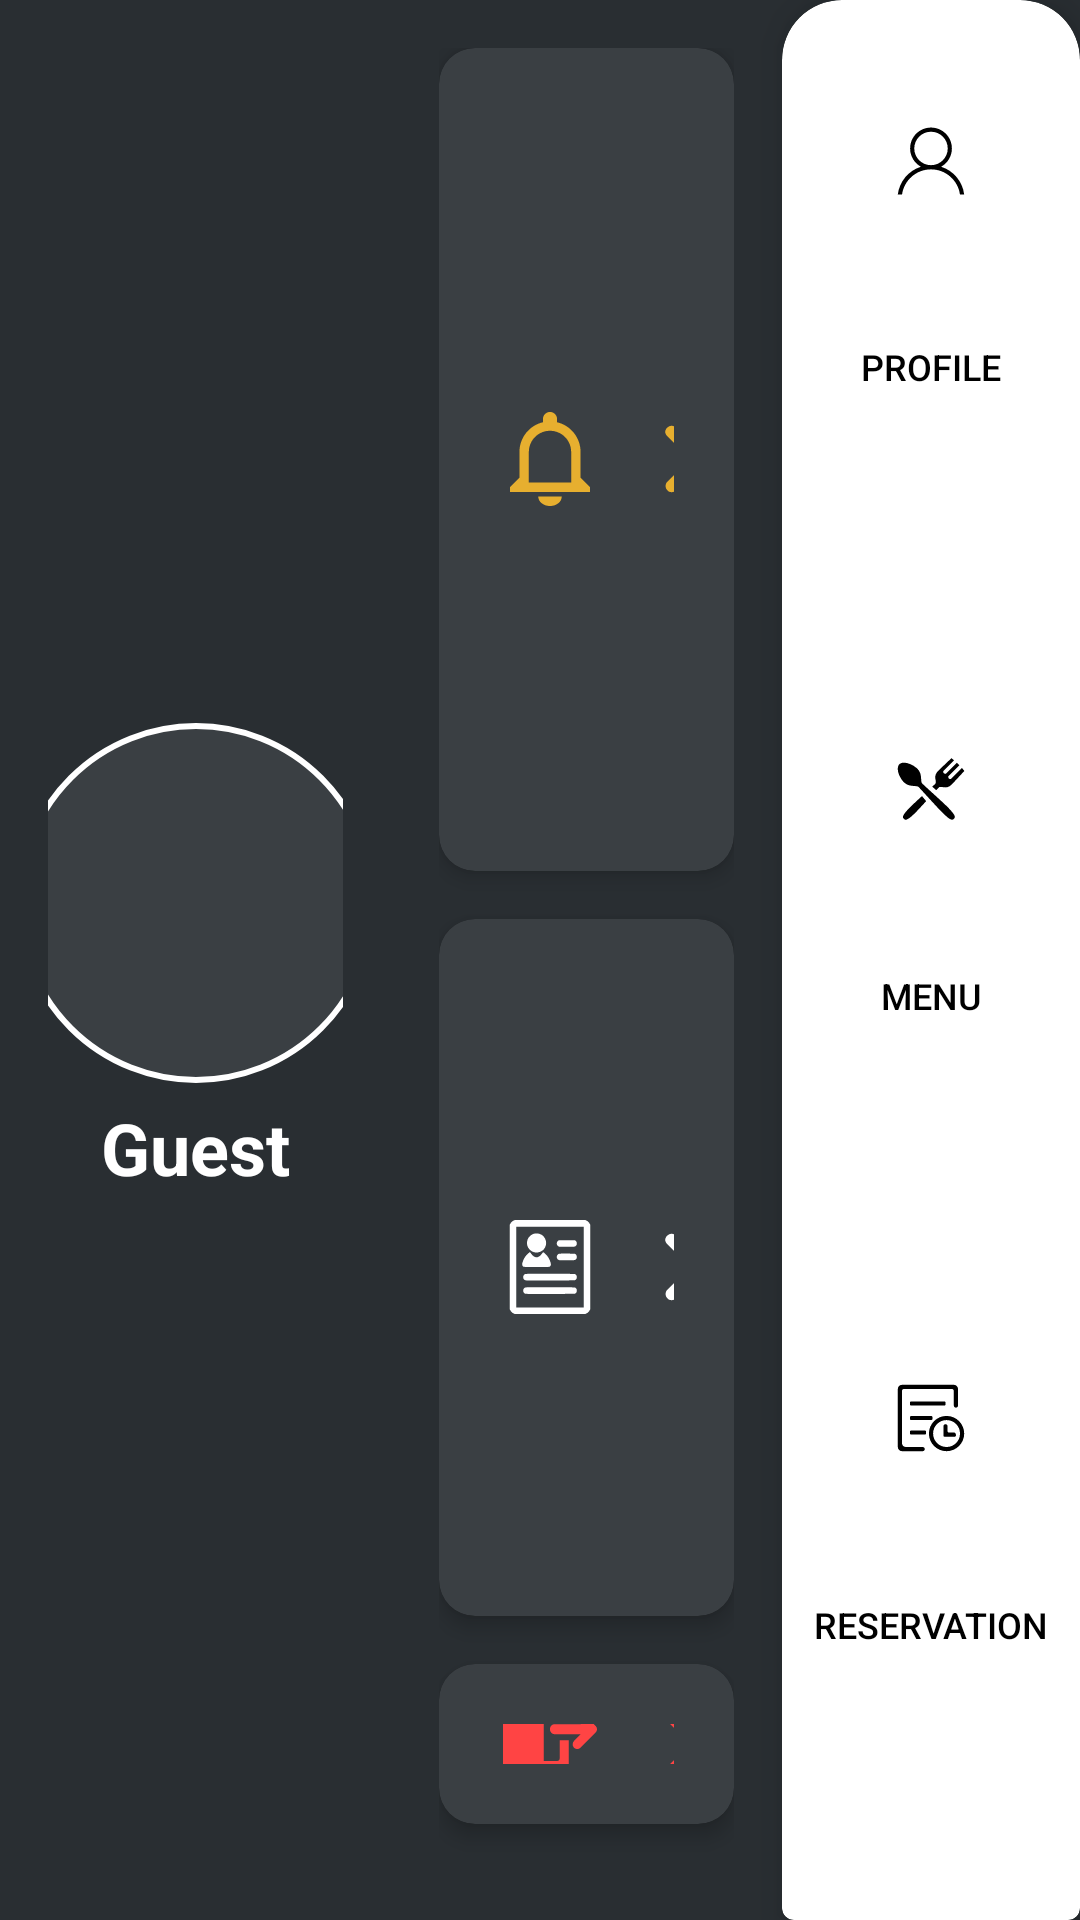

Screen size 1080px×1920px. Icon name, then its box in pixels as bbox=(x1, y1, x2, y2):
notification: bbox=(510, 412, 590, 506)
